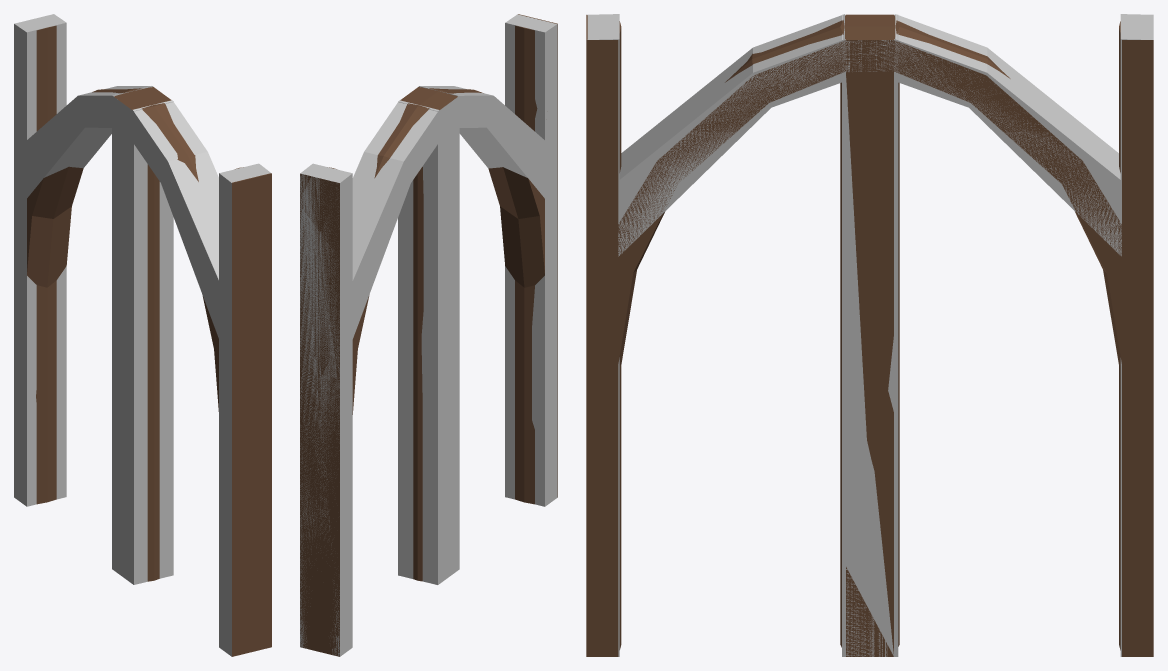
Rendered from SM_Bld_Wall_Frame_02.fbx.
3 renders of one model, left to right at view 1: azimuth 30°, elevation 25°; view 2: azimuth 150°, elevation 25°; view 3: azimuth 270°, elevation 25°, orthographic. The views are drawn at different scales.
Parts seen in each view (by area): view 1: SM_Bld_Wall_Frame_02_ConvexHulls, SM_Bld_Wall_Frame_02; view 2: SM_Bld_Wall_Frame_02_ConvexHulls, SM_Bld_Wall_Frame_02; view 3: SM_Bld_Wall_Frame_02, SM_Bld_Wall_Frame_02_ConvexHulls.
Boxes of the visible parts, x1,y1,x2,y2 form: SM_Bld_Wall_Frame_02_ConvexHulls: [14, 14, 270, 656]; SM_Bld_Wall_Frame_02: [27, 25, 271, 656]; SM_Bld_Wall_Frame_02_ConvexHulls: [300, 14, 557, 656]; SM_Bld_Wall_Frame_02: [300, 14, 557, 656]; SM_Bld_Wall_Frame_02: [586, 14, 1153, 656]; SM_Bld_Wall_Frame_02_ConvexHulls: [587, 14, 1153, 656].
Size of the model in its own units: 26.42 by 250 by 300.
Materials: 2 (1 with a texture image).
